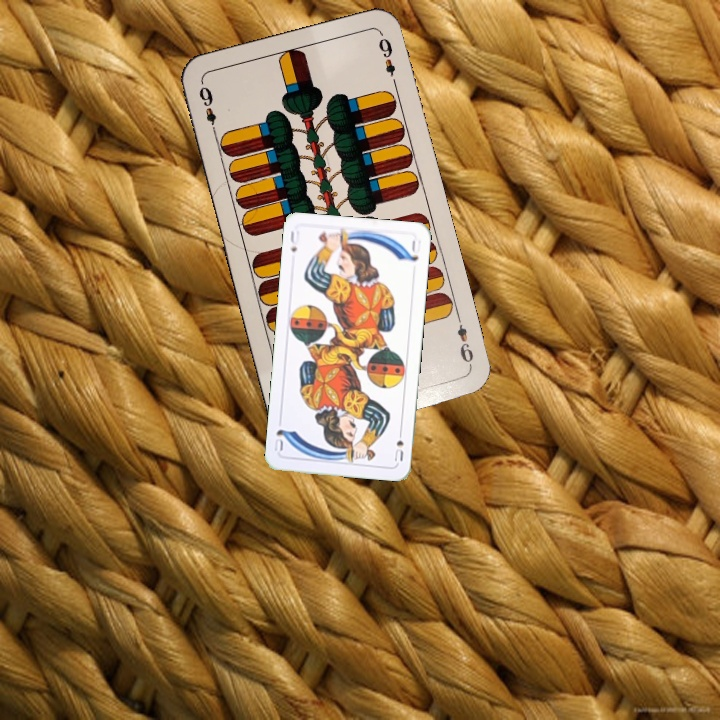E9: (194, 82, 219, 138), (452, 312, 476, 370)
SU: (390, 425, 406, 464), (286, 227, 302, 255)
